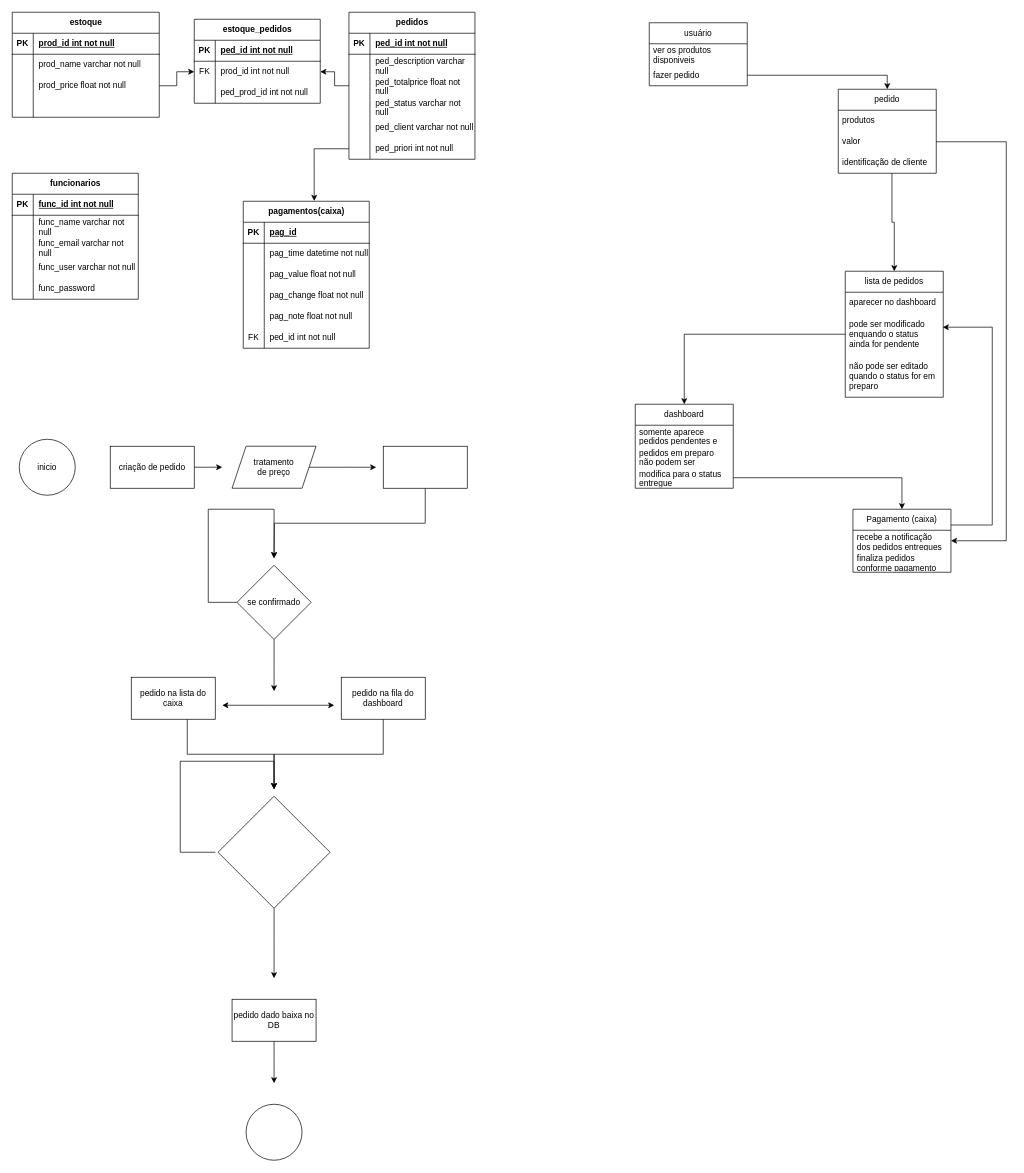
Some shapes in this 1024 by 1173 pixel diagram are drawn without their labels. The centre of each missing label's shape, as x and y in pixels:
"confirmação de pedido" belongs at [425,467].
"pagamento concluido status entregue" belongs at [273,852].
